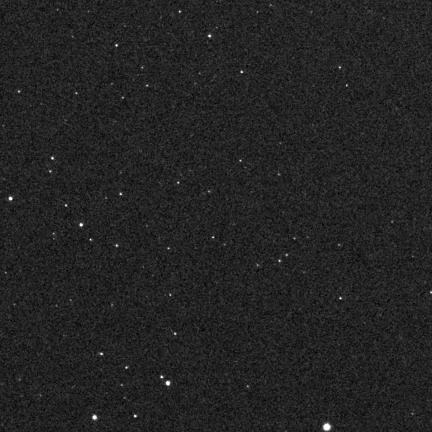blob: (80, 223, 84, 228), (9, 196, 13, 200)
